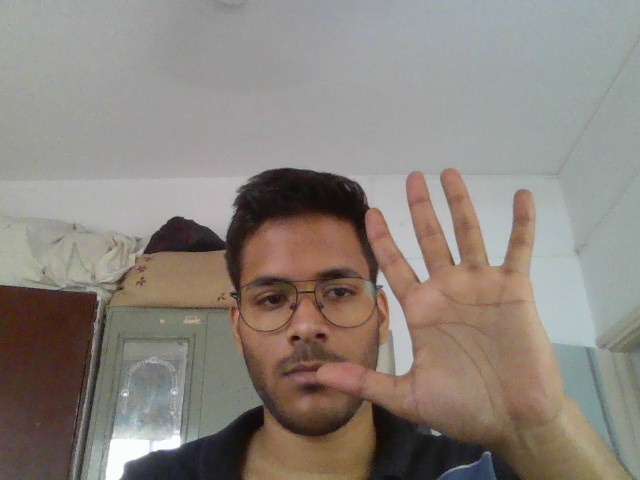hello: (323, 162, 587, 444)
